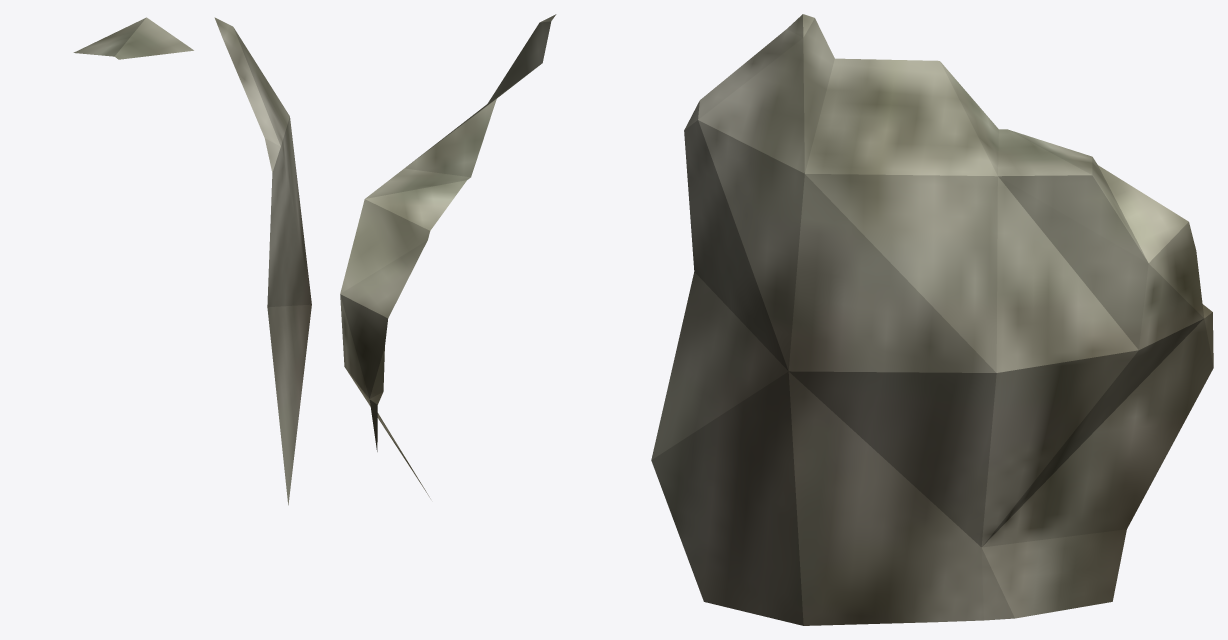
3 renders of one model, left to right at view 1: azimuth 30°, elevation 25°; view 2: azimuth 150°, elevation 25°; view 3: azimuth 270°, elevation 25°, orthographic. The views are drawn at different scales.
Bounding box in the file's own units: 0.1136 × 0.5234 × 0.4538.
Materials: 1 (1 with a texture image).
